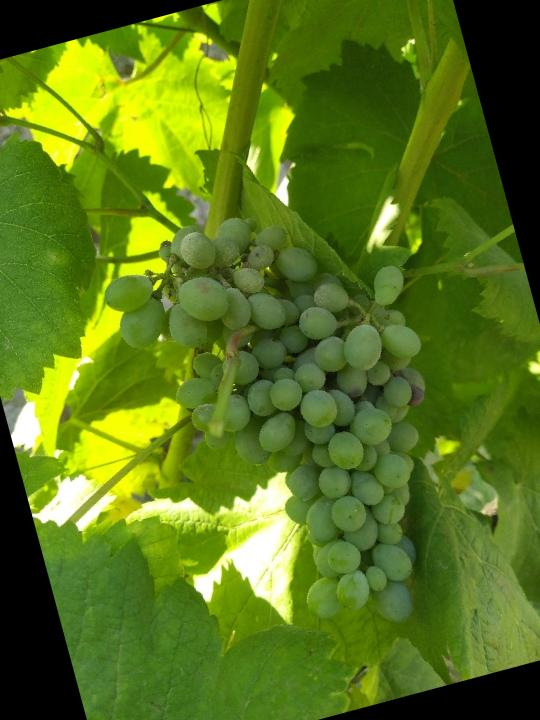grape: (86, 172, 495, 681), (0, 100, 34, 150)
